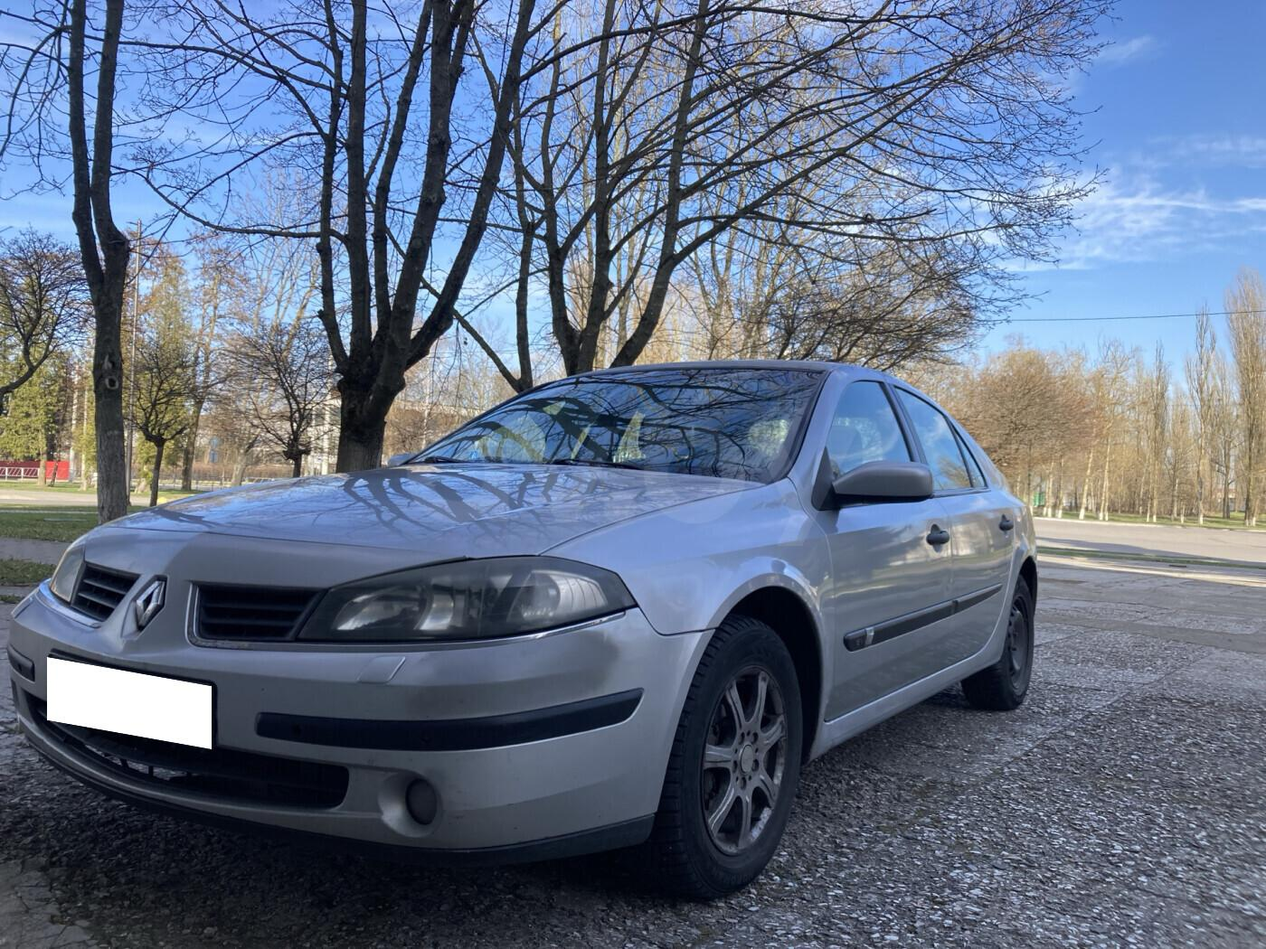Laguna_2005-2007: (0, 354, 1040, 901)
